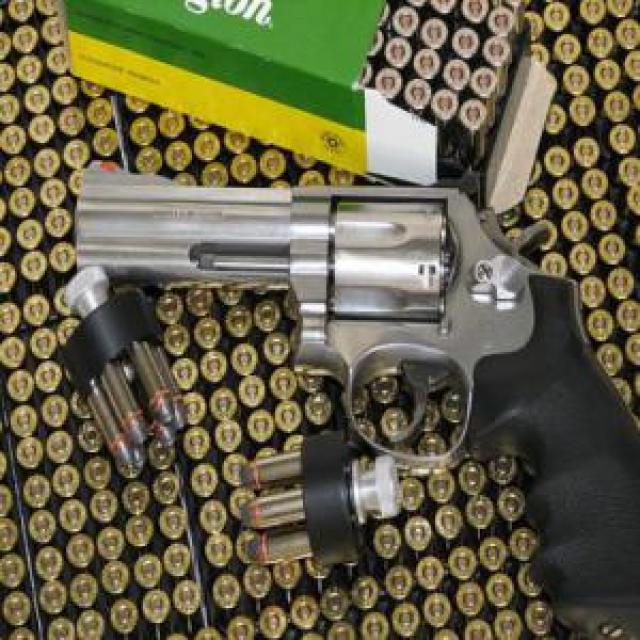pistol: (77, 158, 638, 639)
